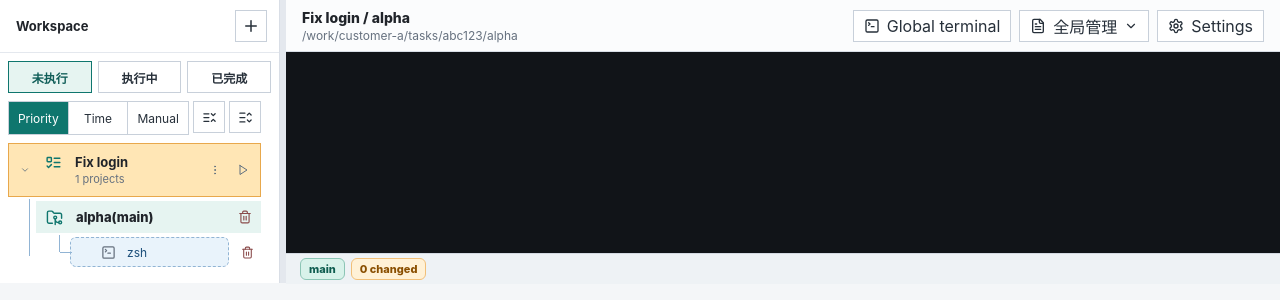
App project terminal tree › shows terminal copy and paste actions on right click
The width and height of the screenshot is (1280, 300).
Right-click the element with test id "terminal-pane-terminal-a".
right_click(783, 152)  # box x1=286 y1=52 x2=1279 y2=253
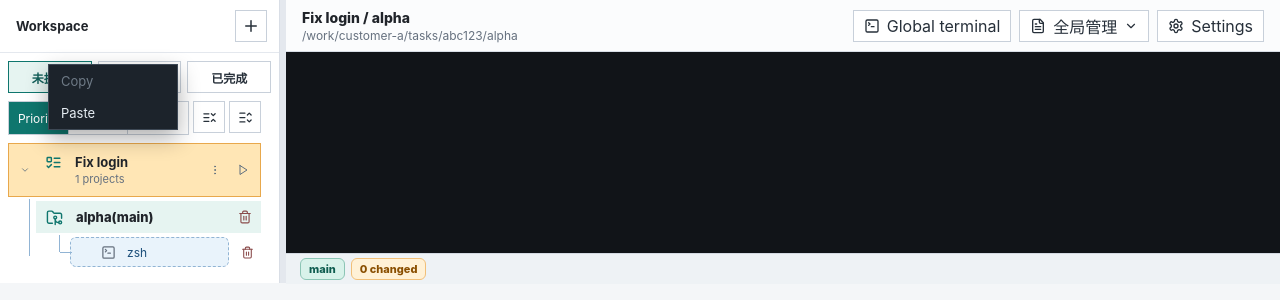
Now the element with test id "terminal-context-menu" is shown, box x1=48 y1=64 x2=178 y2=130
Now the element with test id "terminal-context-menu" shows "Copy", box x1=49 y1=65 x2=177 y2=97
Now the element with test id "terminal-context-menu" shows "Paste", box x1=49 y1=97 x2=177 y2=129
